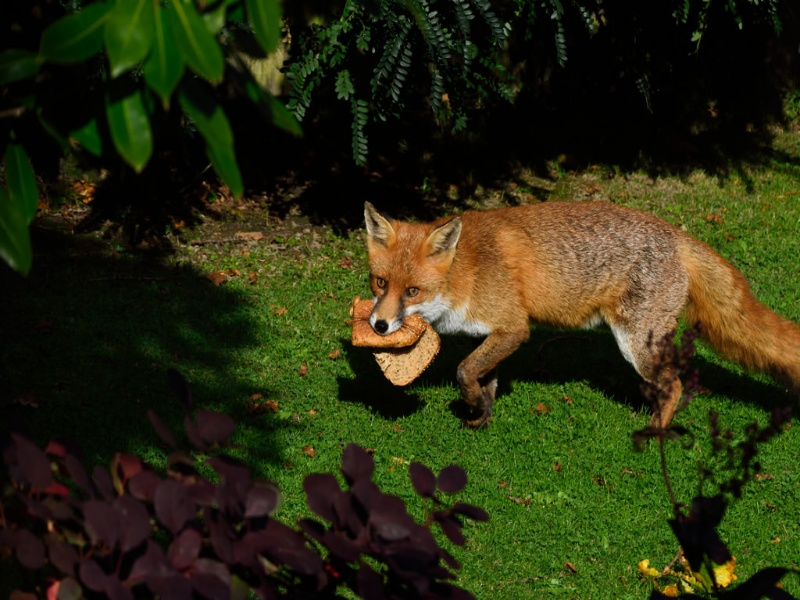fox: (353, 200, 800, 446)
